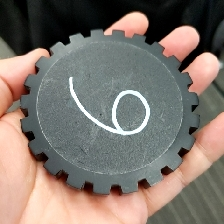gear: (19, 28, 201, 197)
